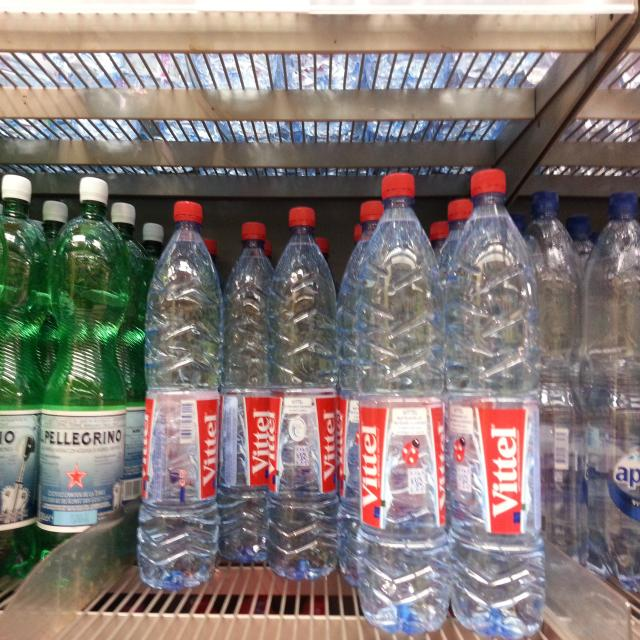Water: (354, 172, 451, 632), (452, 168, 544, 638), (38, 172, 125, 592), (141, 196, 221, 588), (273, 208, 337, 582), (586, 187, 640, 603), (223, 223, 272, 566), (0, 173, 39, 588)
